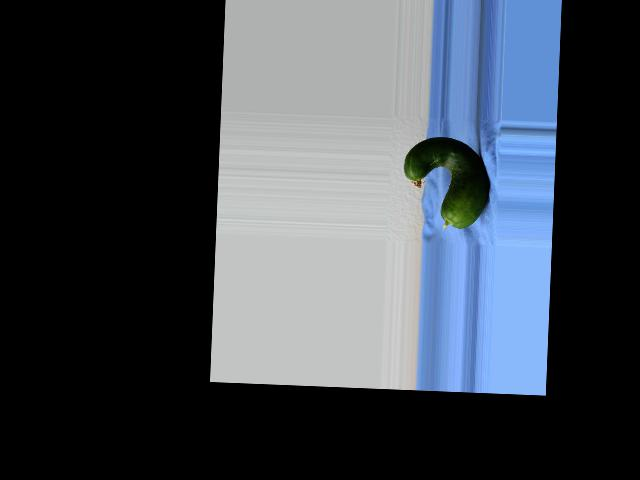cucumber: (401, 135, 491, 230)
